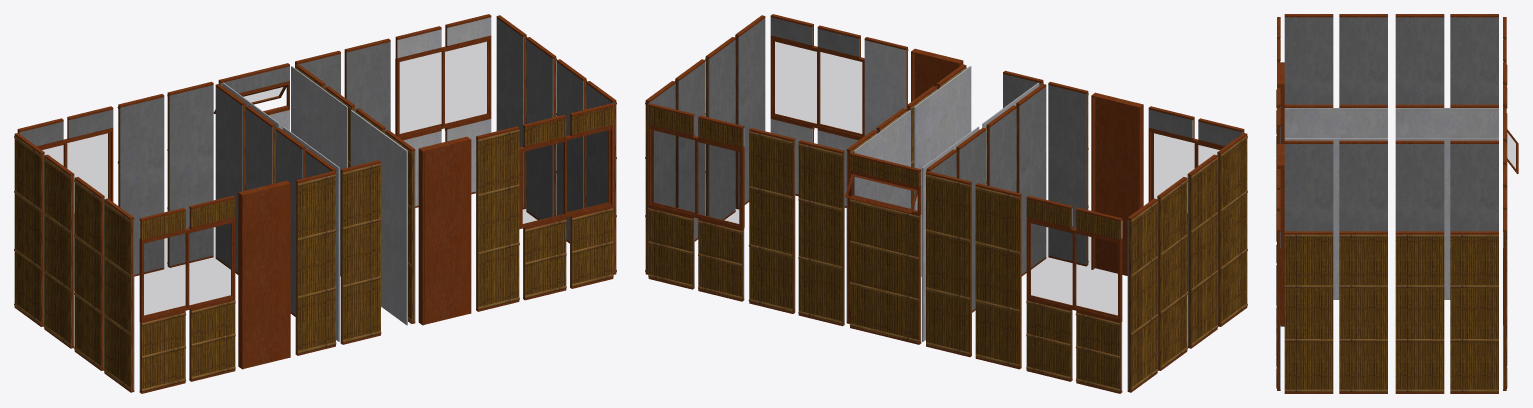
File: 06 PAREDES.glb
3 renders of one model, left to right at view 1: azimuth 30°, elevation 25°; view 2: azimuth 150°, elevation 25°; view 3: azimuth 270°, elevation 25°, orthographic. The views are drawn at different scales.
Visible parts, largest first — view 1: Hoja-Ventana-01 (×7), PANEL-MODULO (×7), PANEL-MODULO#15 (×5), PANEL-MODULO#7 (×4), 131335 (×2), PANEL-MODULO#12 (×2), PANEL-MODULO#32, 136062, PANEL-MODULO#24 (×2), PANEL-MODULO#25 (×2), 136063, 131337 (×2) (+9 smaller); view 2: PANEL-MODULO#8 (×4), Hoja-Ventana-01 (×7), PANEL-MODULO (×7), PANEL-MODULO#15 (×4), PANEL-MODULO#39, 131335 (×2), PANEL-MODULO#11 (×2), PANEL-MODULO#34 (×2), PANEL-MODULO#24 (×2), 136062, PANEL-MODULO#33, 136063 (+10 smaller); view 3: PANEL-MODULO (×8), PANEL-MODULO#15 (×4), 136060, 136061, 136062, 136063, 131338 (×2), Ventana-03#1, 131696, 131892.
Part boxes in pixels (x1,y1,x2,y2): Hoja-Ventana-01 (×7): (63,40,610,317); PANEL-MODULO (×7): (215,18,613,314); PANEL-MODULO#15 (×5): (14,138,412,390); PANEL-MODULO#7 (×4): (119,42,390,274); 131335 (×2): (243,141,469,368); PANEL-MODULO#12 (×2): (297,166,380,353); PANEL-MODULO#32: (477,132,519,309); 136062: (350,110,407,325); PANEL-MODULO#24 (×2): (141,303,235,391); PANEL-MODULO#25 (×2): (524,211,613,298); 136063: (291,66,347,276); 131337 (×2): (238,150,423,369); PANEL-MODULO#8 (×4): (749,134,1020,367); Hoja-Ventana-01 (×7): (651,40,1198,317); PANEL-MODULO (×7): (648,18,1046,310); PANEL-MODULO#15 (×4): (1130,138,1247,390); PANEL-MODULO#39: (850,202,919,342); 131335 (×2): (914,54,1138,275); PANEL-MODULO#11 (×2): (1003,74,1086,264); PANEL-MODULO#34 (×2): (648,211,742,299); PANEL-MODULO#24 (×2): (1026,303,1120,391); 136062: (914,66,971,276); PANEL-MODULO#33: (864,40,906,135); 136063: (854,110,910,208); PANEL-MODULO (×8): (1284,17,1498,231); PANEL-MODULO#15 (×4): (1284,237,1498,389); 136060: (1395,108,1498,138); 136061: (1284,108,1387,138); 136062: (1284,138,1387,299); 136063: (1395,138,1498,299); 131338 (×2): (1277,85,1284,326); Ventana-03#1: (1506,128,1518,173); 131696: (1503,251,1506,322); 131892: (1277,251,1280,322).
Bounding box in the file's own units: 7.02 × 2.4 × 3.27.
1006 materials, 976 textured.
